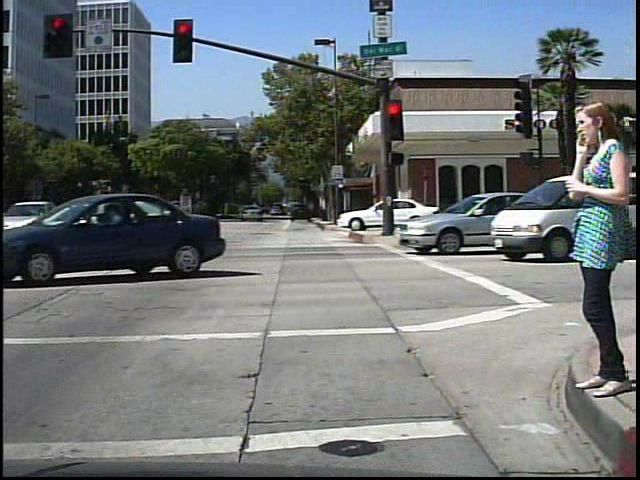person: (561, 87, 629, 407)
